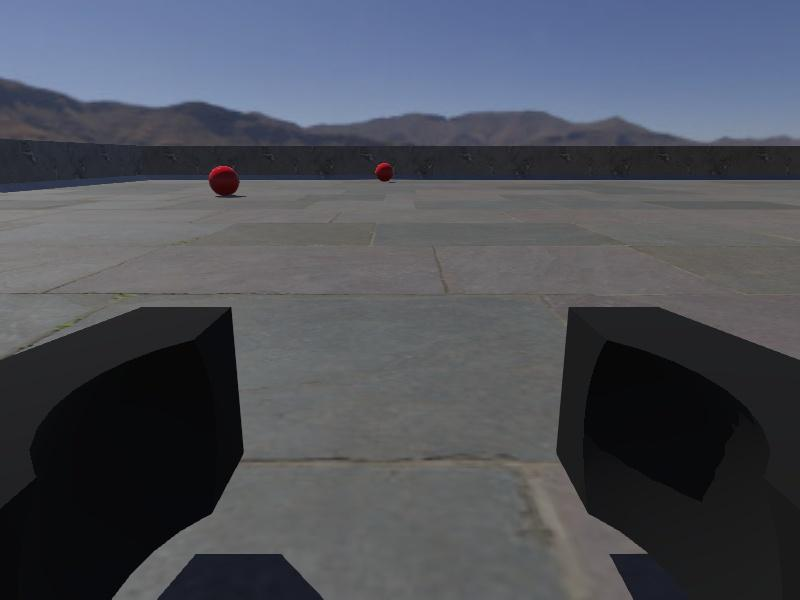red ball: (208, 164, 241, 198), (373, 161, 395, 183)
